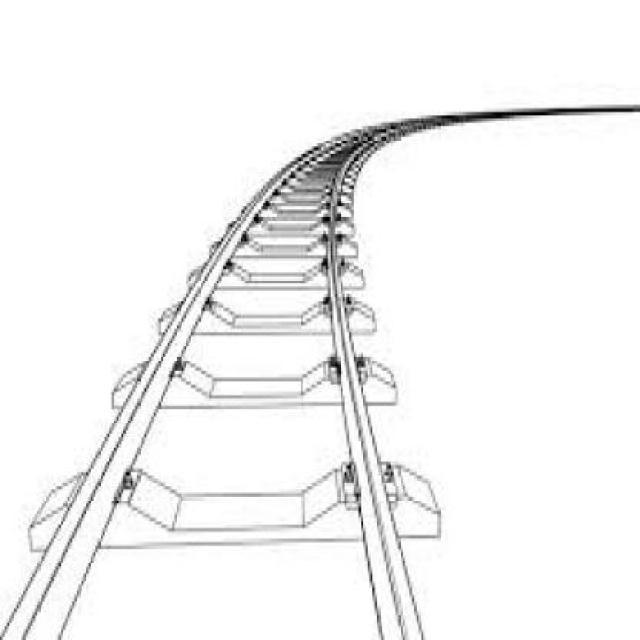rail: (1, 72, 637, 629)
